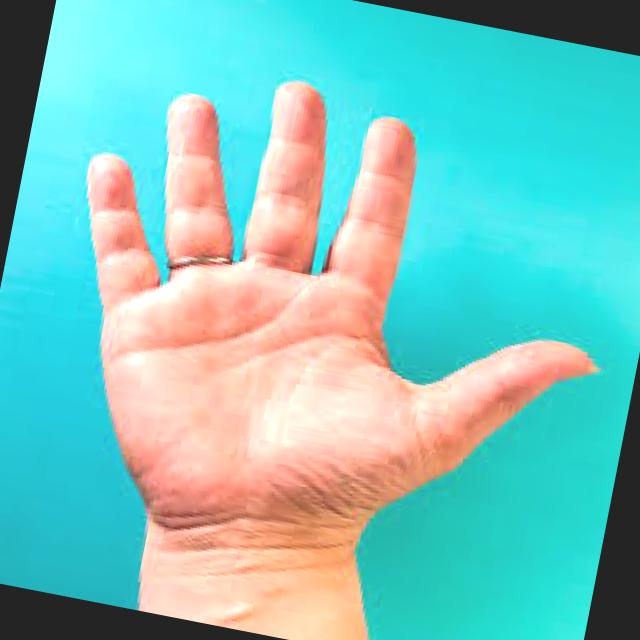Hand: (22, 30, 640, 609)
